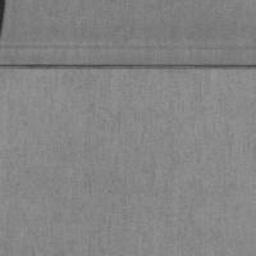Welding line: (0, 63, 256, 72)
